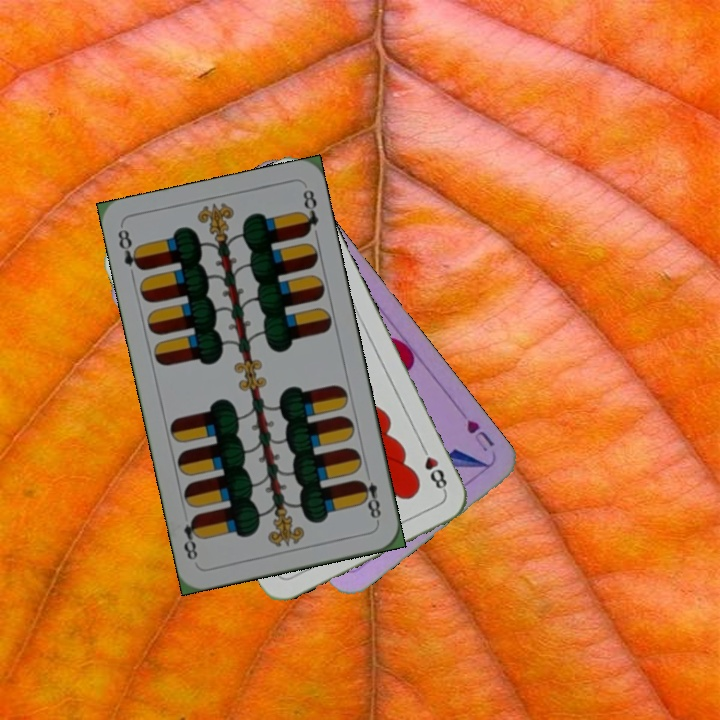E8: (113, 225, 146, 273), (355, 476, 384, 526)
H8: (416, 440, 450, 495)
HU: (462, 415, 498, 455)
